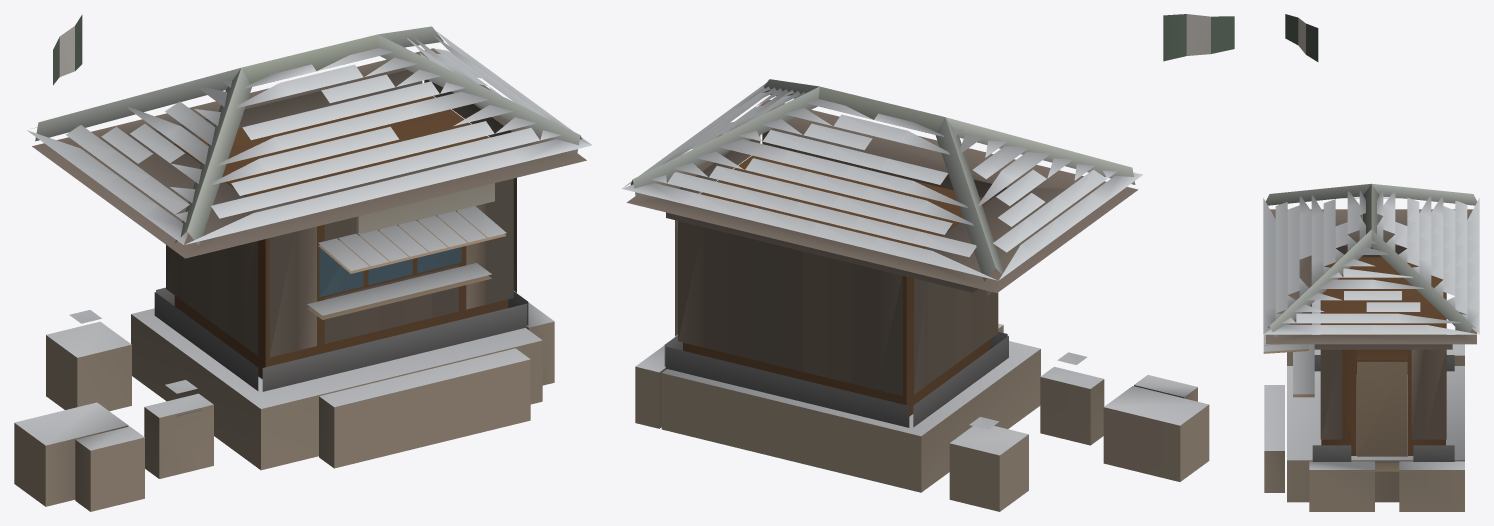
File: ranger.lod.glb
3 views of the same model, side by side, from view 1: azimuth 30°, elevation 25°; view 2: azimuth 150°, elevation 25°; view 3: azimuth 270°, elevation 25° (orthographic). The views are drawn at different scales.
Visible parts, largest first — view 1: ranger; view 2: ranger; view 3: ranger.
Boxes of the visible parts, <box> form: ranger: <box>14,14,592,511</box>; ranger: <box>621,14,1234,511</box>; ranger: <box>1263,14,1479,511</box>.
Bounding box in the file's own units: 9.22 × 8.03 × 4.8.
